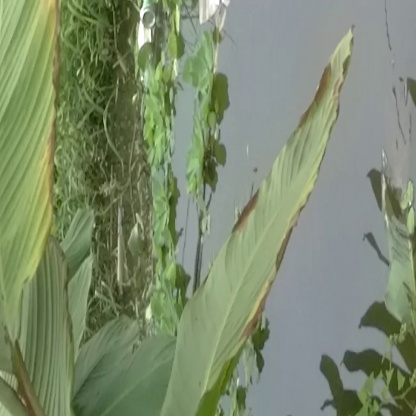leaf: (258, 25, 353, 261)
